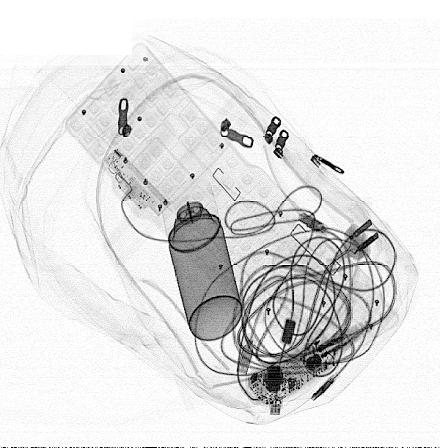Sprayer: (158, 174, 245, 343)
